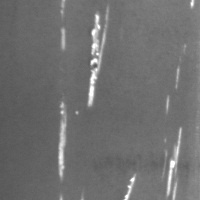scratches: (85, 9, 112, 109), (165, 126, 186, 199), (56, 102, 71, 182), (57, 1, 70, 51), (122, 173, 139, 199)
